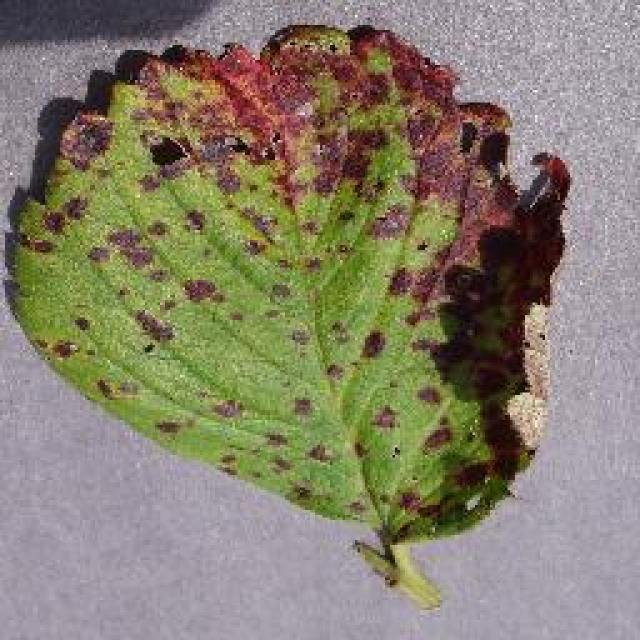Strawberry leaf scorch: (178, 46, 432, 436)
